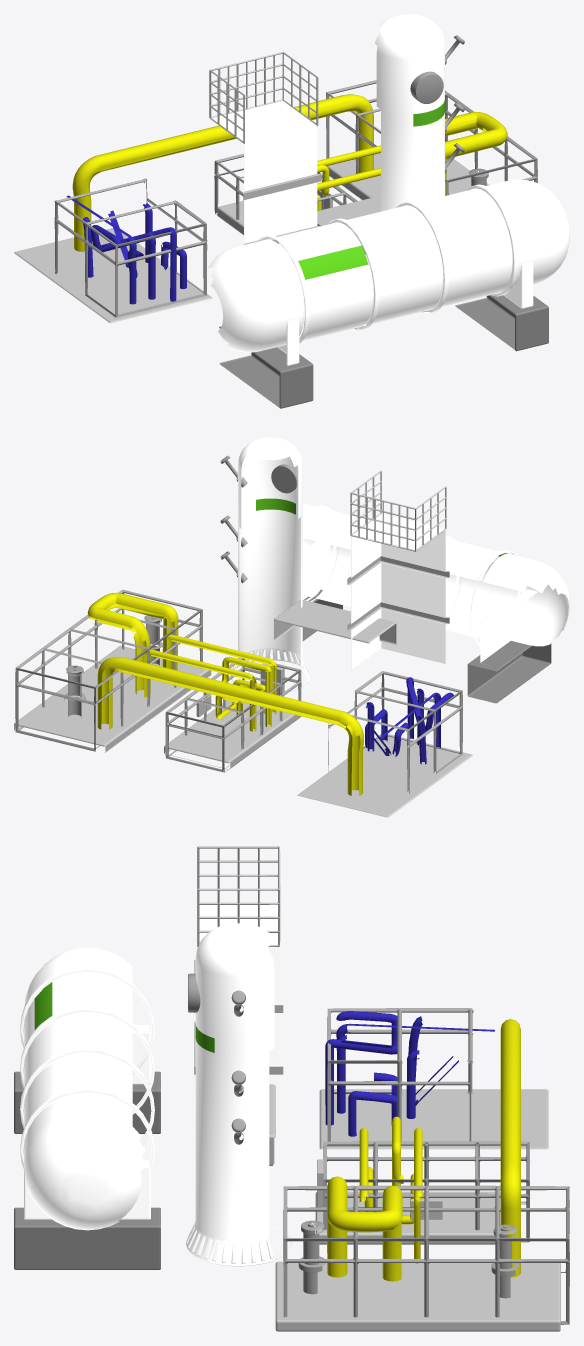
File: wodorowy_hub.glb
The picture shows the model from 3 angles, top to bottom: view 1: azimuth 30°, elevation 25°; view 2: azimuth 150°, elevation 25°; view 3: azimuth 270°, elevation 25°; orthographic projection. The views are drawn at different scales.
Parts seen in each view (by area): view 1: Cylinder.060, Cylinder.061, Cube.398, Cube.397, BézierCurve.015, Cube.403, BézierCurve.018, Cube.396, Cube.401, Cube.392, Cube.402, BézierCurve.017 (+4 smaller); view 2: Cylinder.060, Cylinder.061, Cube.398, BézierCurve.015, Cube.402, Cube.397, Cube.403, Cube.392, Cube.400, BézierCurve.017, Cube.399, Cube.393 (+6 smaller); view 3: Cylinder.060, Cylinder.061, Cube.402, Cube.397, Cube.403, BézierCurve.015, Cube.392, BézierCurve.018, Cube.393, Cube.400, Cube.396, Cube.398 (+5 smaller).
Boxes of the visible parts, x1,y1,x2,y2 form: Cylinder.060: (207, 179, 569, 352); Cylinder.061: (375, 14, 444, 298); Cube.398: (212, 100, 321, 281); Cube.397: (219, 261, 548, 408); BézierCurve.015: (72, 94, 507, 251); Cube.403: (14, 228, 212, 323); BézierCurve.018: (66, 195, 186, 304); Cube.396: (54, 178, 207, 317); Cube.401: (209, 51, 318, 143); Cube.392: (326, 80, 537, 195); Cube.402: (327, 153, 489, 202); BézierCurve.017: (317, 145, 380, 210); Cylinder.060: (302, 503, 569, 646); Cylinder.061: (231, 437, 309, 691); Cube.398: (347, 513, 449, 669); BézierCurve.015: (87, 592, 363, 795); Cube.402: (14, 645, 211, 752); Cube.397: (277, 541, 551, 703); Cube.403: (297, 734, 472, 817); Cube.392: (15, 589, 202, 751); Cube.400: (164, 700, 301, 769); BézierCurve.017: (144, 634, 276, 731); Cube.399: (274, 600, 396, 644); Cube.393: (165, 658, 301, 772); Cylinder.060: (20, 947, 154, 1230); Cylinder.061: (186, 923, 291, 1266); Cube.402: (275, 1261, 560, 1331); Cube.397: (14, 1025, 160, 1269); Cube.403: (319, 1089, 548, 1149); BézierCurve.015: (327, 1019, 520, 1281); Cube.392: (283, 1185, 569, 1324); BézierCurve.018: (325, 1011, 494, 1136); Cube.393: (323, 1141, 530, 1242); Cube.400: (315, 1191, 500, 1244); Cube.396: (327, 1008, 473, 1146); Cube.398: (194, 904, 283, 1126).
Bounding box in the file's own units: 2.12 × 1.28 × 2.06.
